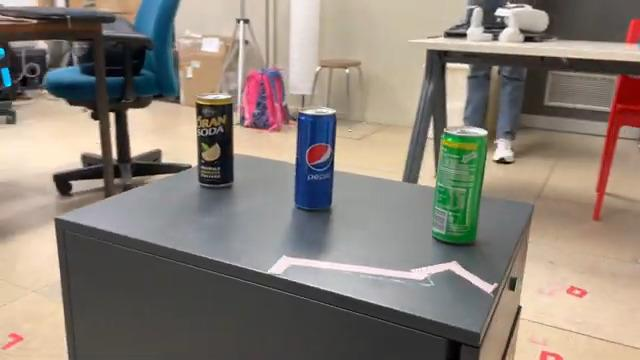OranSoda: (190, 90, 240, 192)
Pepsi: (290, 107, 338, 216)
Sprite: (427, 122, 491, 252)
